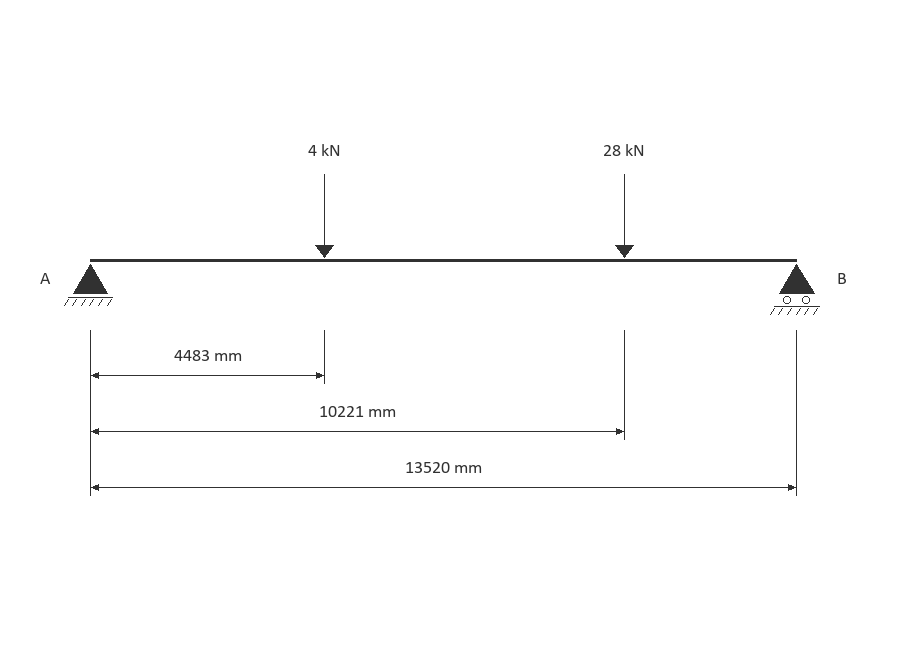pin_support: (64, 264, 113, 306)
point_load: (315, 174, 334, 258), (615, 174, 634, 258)
roller_support: (770, 264, 820, 315)
